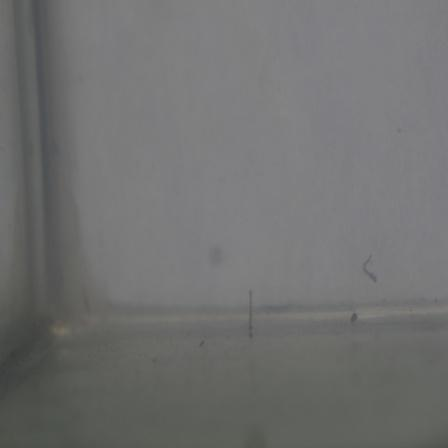Jentik-Nyamuk: (358, 248, 386, 287), (242, 286, 259, 342)
